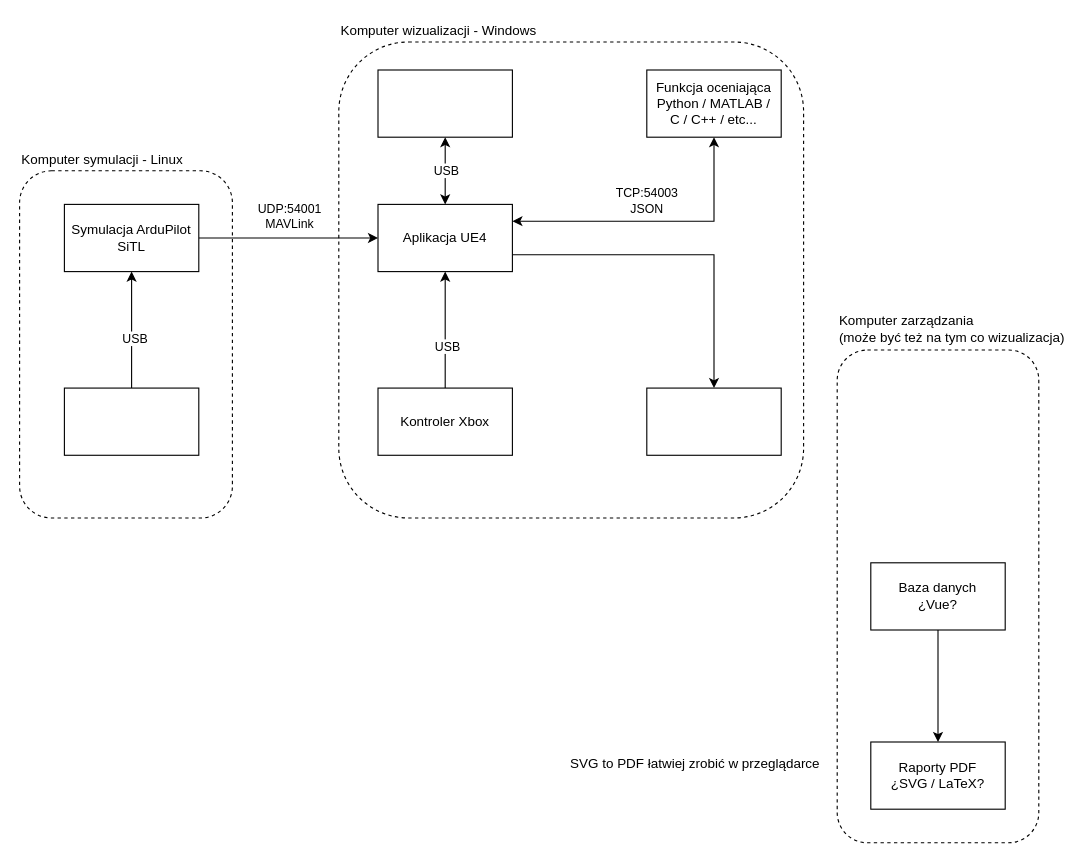
Some shapes in this 1086 by 862 pixel diagram are drawn without their labels. Here are the shapes that lost their labels. From the top down, the centre of each, then its label:
the point at 444,103: Headset Oculus Rift
the point at 131,421: Aparatura RC
the point at 713,421: Plik logu CSV
